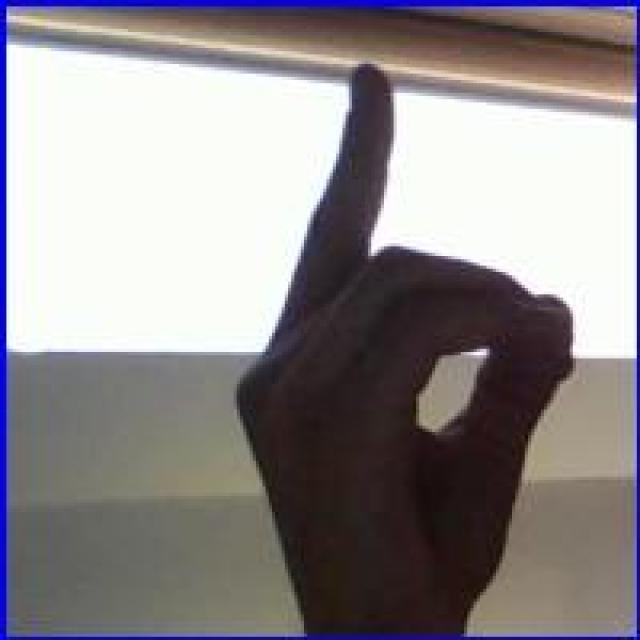D: (221, 54, 579, 634)
